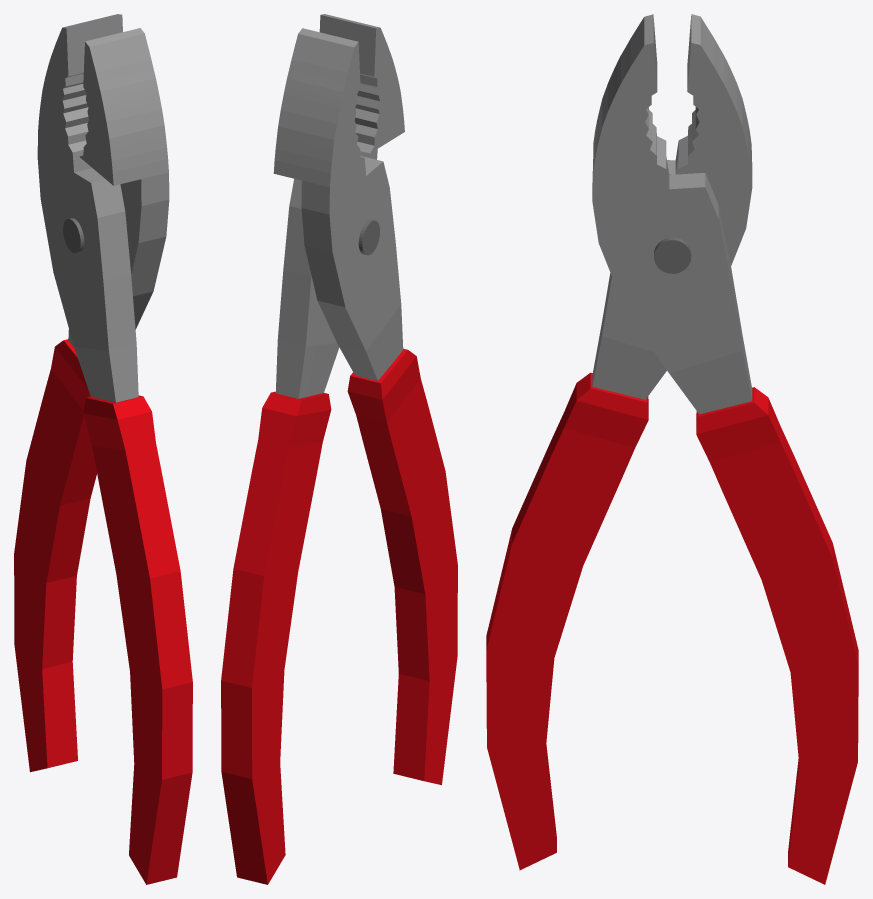
The model's file is Pinzas_mango_rojo.fbx.
The picture shows the model from 3 angles, left to right: view 1: azimuth 30°, elevation 25°; view 2: azimuth 150°, elevation 25°; view 3: azimuth 270°, elevation 25°; orthographic projection. The views are drawn at different scales.
Visible parts, largest first — view 1: Cube.001, Cube.003, Cube, Cube.002, Cylinder.002; view 2: Cube.003, Cube.001, Cube, Cube.002, Cylinder.002; view 3: Cube.001, Cube.003, Cube.002, Cube, Cylinder.
Part boxes in pixels (x1,y1,x2,y2): Cube.001: (83, 395, 192, 884); Cube.003: (14, 339, 96, 772); Cube: (37, 14, 138, 402); Cube.002: (68, 28, 169, 346); Cylinder.002: (63, 218, 84, 253); Cube.003: (221, 391, 331, 884); Cube.001: (347, 348, 457, 785); Cube: (273, 28, 403, 380); Cube.002: (275, 14, 404, 398); Cylinder.002: (358, 220, 379, 255); Cube.001: (486, 372, 648, 870); Cube.003: (696, 387, 858, 884); Cube.002: (592, 14, 752, 414); Cube: (592, 14, 752, 399); Cylinder: (654, 237, 691, 273).
Bounding box in the file's own units: 77.32 × 909 × 365.
